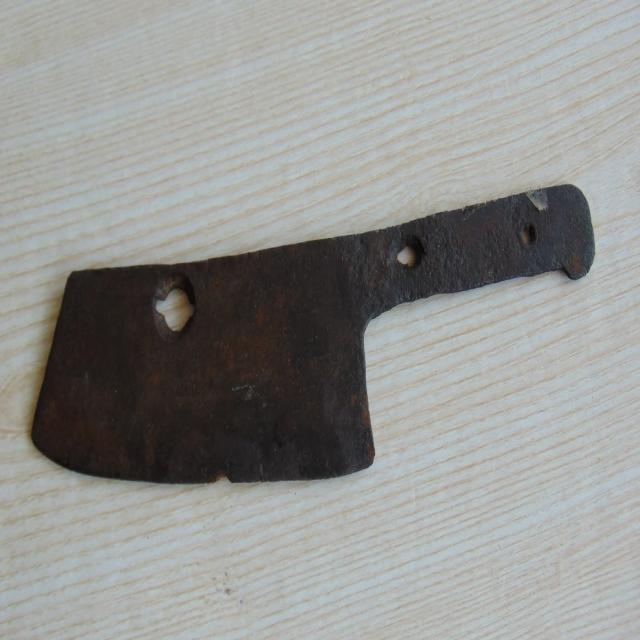cleaver: (32, 187, 590, 477)
